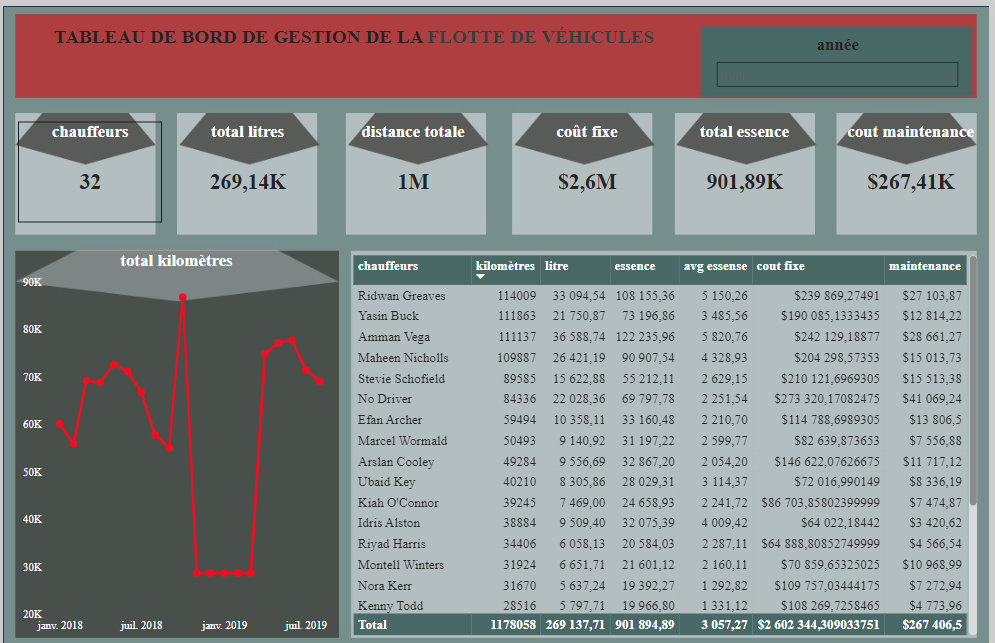

The dashboard page shown, as its layout file describes it:
{"tool":"powerbi","page":{"name":"CONSOMMATION","canvas":[1095,720],"ordinal":0},"visuals":[{"type":"card","title":"chauffeurs ","fields":{"Values":["_mesures.nombre de chauffeurs"]},"box":[16,128,160,112],"z":0},{"type":"card","title":"total litres ","fields":{"Values":["_mesures.total litre"]},"box":[192,128,160,112],"z":1000},{"type":"card","title":"distance totale ","fields":{"Values":["_mesures.total kilomètres"]},"box":[384,128,144,112],"z":2000},{"type":"textbox","box":[16,16,752,64],"z":3000},{"type":"lineChart","title":"total kilomètres","fields":{"Y":["_mesures.total kilomètres"],"Category":["calendrier.Date.Variation.Hiérarchie de dates.Année","calendrier.Date.Variation.Hiérarchie de dates.Mois"]},"box":[16,272,352,432],"z":4000},{"type":"card","title":"total essence ","fields":{"Values":["_mesures.total essence"]},"box":[752,128,144,112],"z":5000},{"type":"card","title":"cout maintenance","fields":{"Values":["_mesures.cout maintenance"]},"box":[928,128,160,112],"z":6000},{"type":"card","title":"coût fixe","fields":{"Values":["_mesures.total cout fixe"]},"box":[576,128,144,112],"z":7000},{"type":"slicer","title":"année ","fields":{"Values":["calendrier.Year"]},"box":[784,32,288,64],"z":8000},{"type":"tableEx","fields":{"Values":["dMotorista.Driver","_mesures.total kilomètres","_mesures.total litre","_mesures.total essence","_mesures.avg essense","_mesures.total cout fixe","_mesures.cout maintenance"]},"box":[384,272,704,432],"z":9000}]}

Visuals, with their boxes in screenshot pixels (x1, y1, x2, y2), scaled from the page's 1095x720 canvas onto the 995x643 screenshot:
"chauffeurs " card: {"x1": 15, "y1": 114, "x2": 160, "y2": 214}
"total litres " card: {"x1": 174, "y1": 114, "x2": 320, "y2": 214}
"distance totale " card: {"x1": 349, "y1": 114, "x2": 480, "y2": 214}
textbox: {"x1": 15, "y1": 14, "x2": 698, "y2": 71}
"total kilomètres" lineChart: {"x1": 15, "y1": 243, "x2": 334, "y2": 629}
"total essence " card: {"x1": 683, "y1": 114, "x2": 814, "y2": 214}
"cout maintenance" card: {"x1": 843, "y1": 114, "x2": 989, "y2": 214}
"coût fixe" card: {"x1": 523, "y1": 114, "x2": 654, "y2": 214}
"année " slicer: {"x1": 712, "y1": 29, "x2": 974, "y2": 86}
tableEx - dMotorista.Driver x _mesures.total kilomètres: {"x1": 349, "y1": 243, "x2": 989, "y2": 629}
